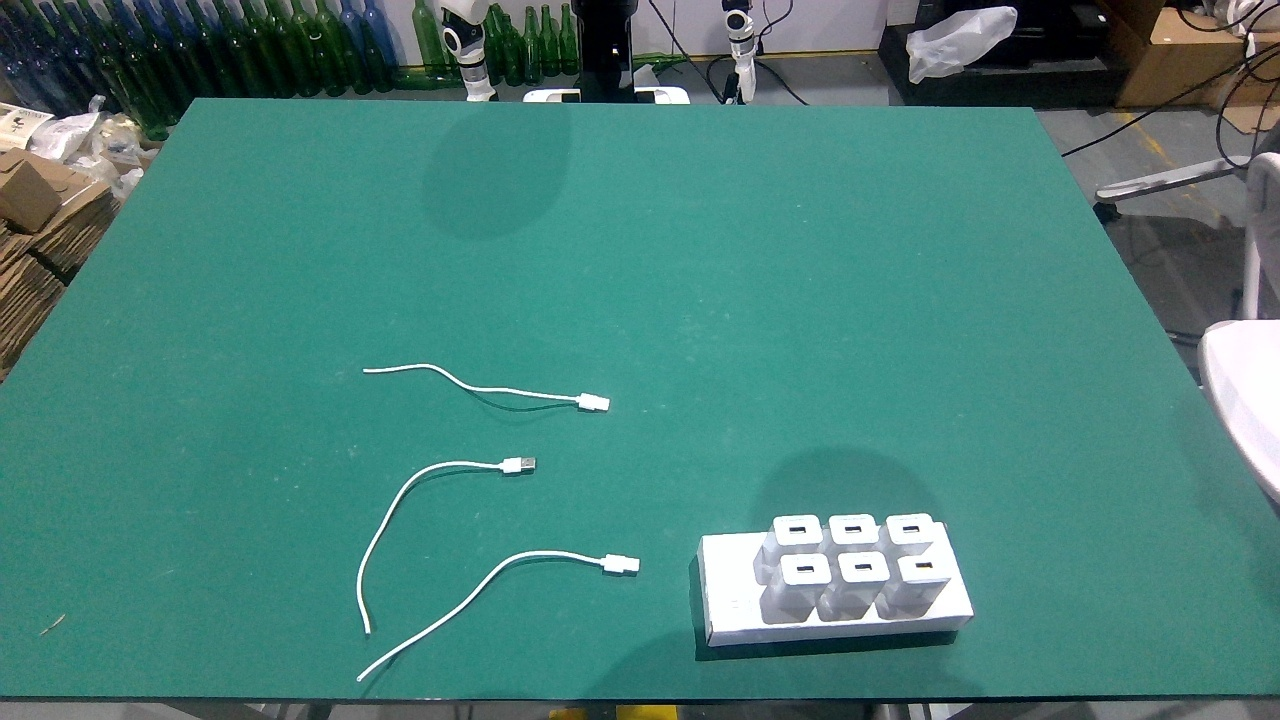usb_a_plug: (573, 550, 654, 576), (558, 388, 620, 416), (474, 456, 547, 475)
